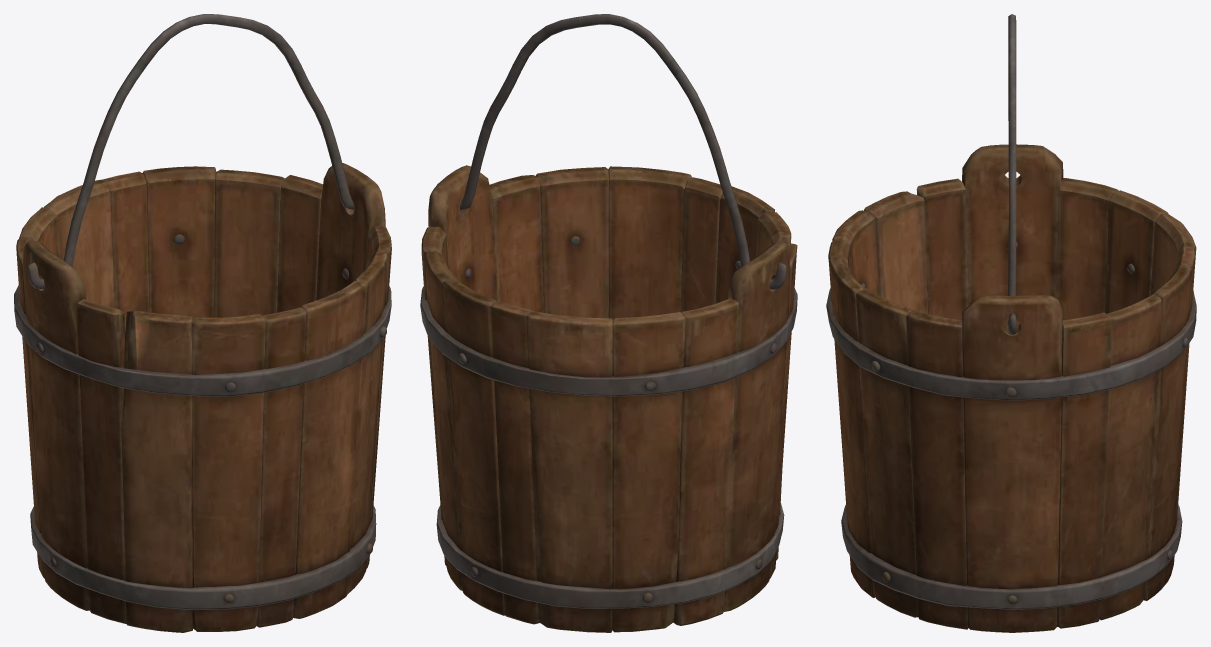
Rendered from wooden_bucket_01.glb.
The picture shows the model from 3 angles, left to right: view 1: azimuth 30°, elevation 25°; view 2: azimuth 150°, elevation 25°; view 3: azimuth 270°, elevation 25°; orthographic projection.
Visible parts, largest first — view 1: wooden_bucket_01; view 2: wooden_bucket_01; view 3: wooden_bucket_01.
Boxes of the visible parts, bbox=[...] form: wooden_bucket_01: bbox=[14, 14, 391, 632]; wooden_bucket_01: bbox=[420, 14, 797, 632]; wooden_bucket_01: bbox=[826, 14, 1196, 632].
Size of the model in its own units: 0.367 by 0.5499 by 0.3422.
1 material, 1 textured.
